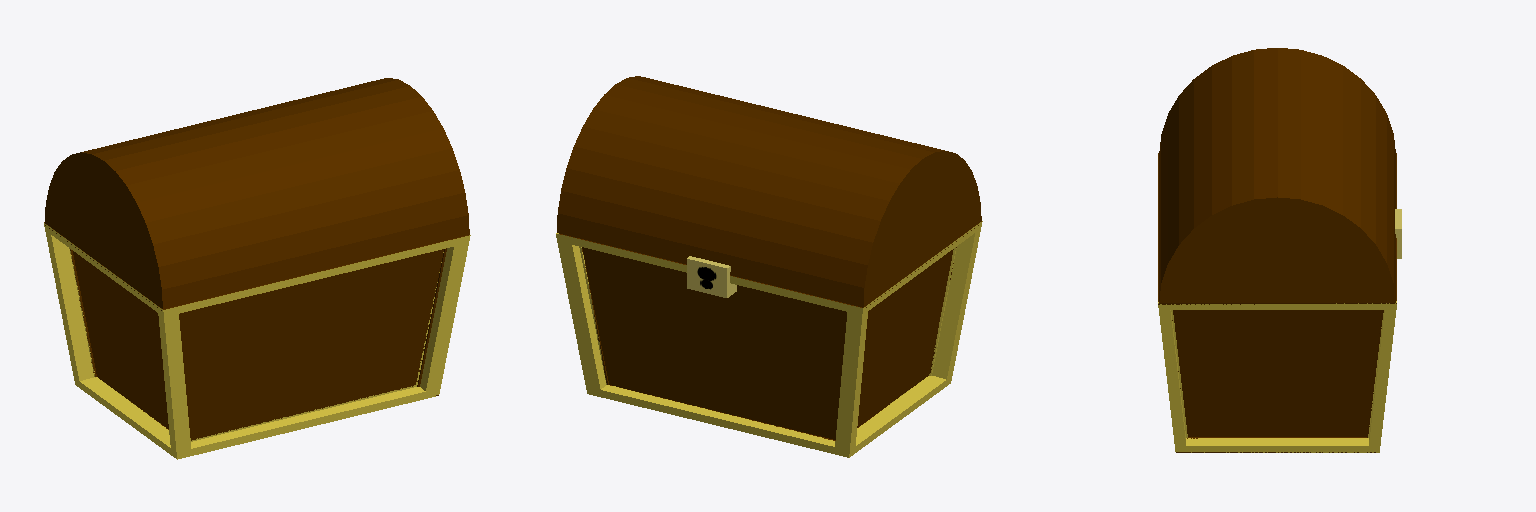
3 renders of one model, left to right at view 1: azimuth 30°, elevation 25°; view 2: azimuth 150°, elevation 25°; view 3: azimuth 270°, elevation 25°, orthographic.
Parts seen in each view (by area): view 1: 円柱; view 2: 円柱; view 3: 円柱.
Part boxes in pixels (x1,y1,x2,y2): 円柱: (44,78,470,459); 円柱: (556,76,982,457); 円柱: (1158,48,1401,452).
Size of the model in its own units: 2.15 by 1.78 by 1.48.
Materials: 1 (1 with a texture image).